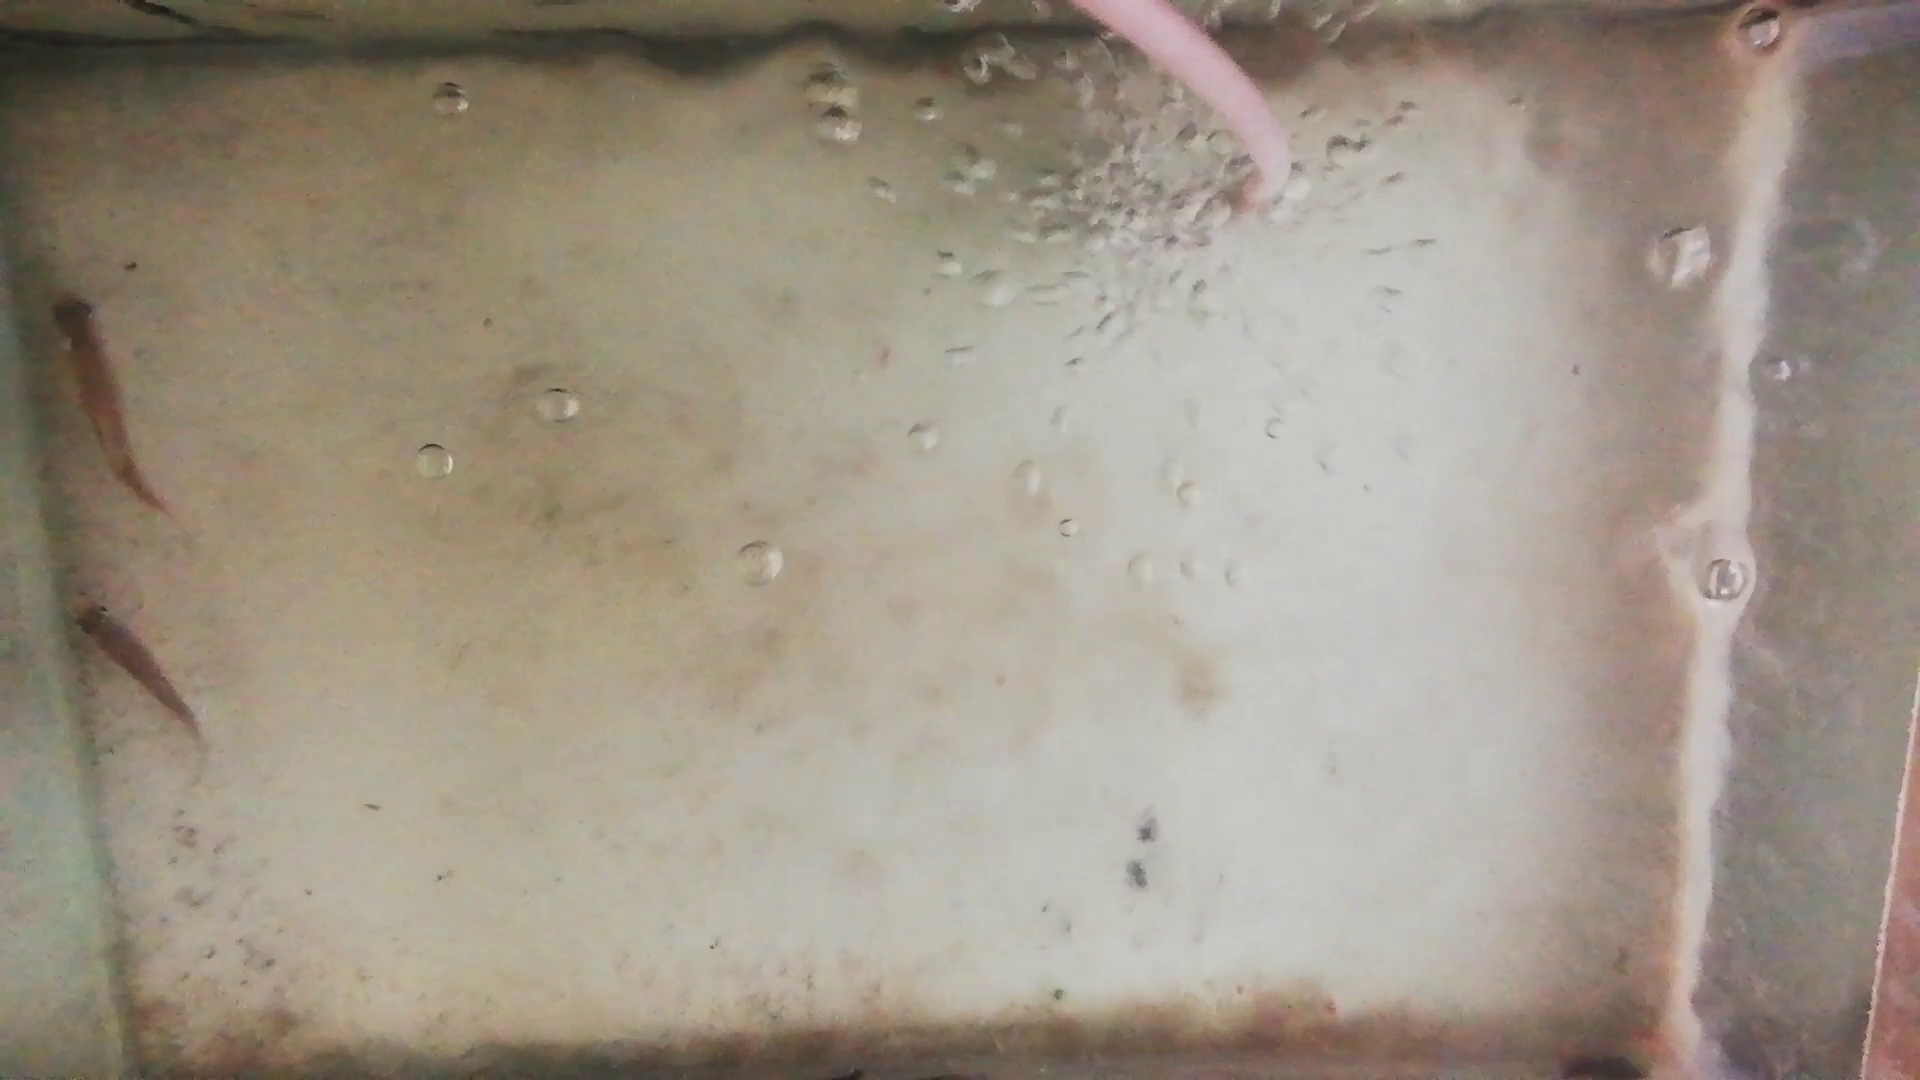fish: (54, 287, 166, 513), (73, 601, 208, 742)
